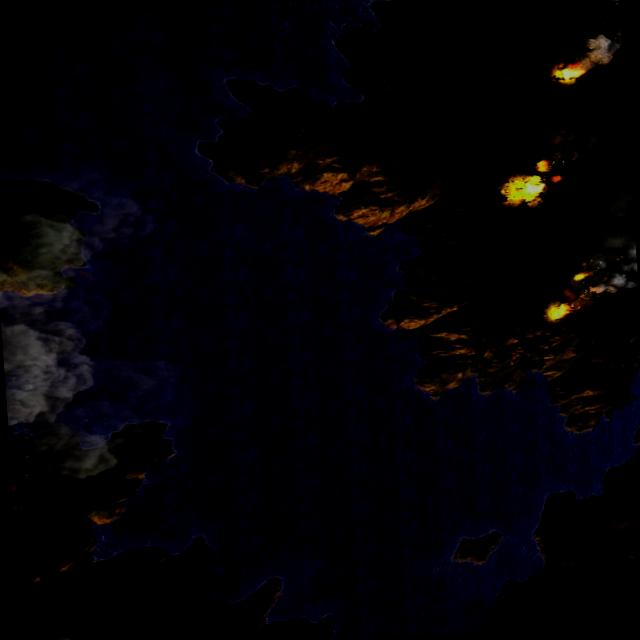fire: (502, 172, 549, 204), (551, 62, 584, 84), (546, 303, 568, 320), (568, 273, 586, 283)
smoke: (0, 185, 183, 482), (586, 160, 639, 295), (531, 118, 601, 184), (574, 34, 622, 70), (599, 0, 619, 7)
